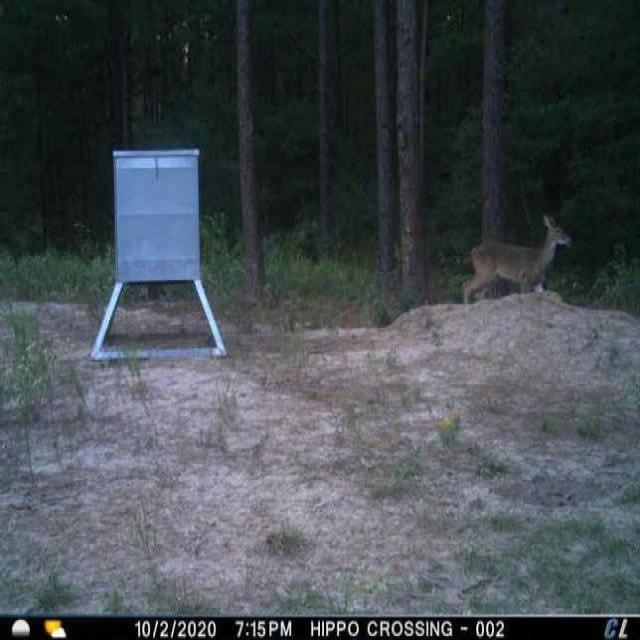deer: (462, 209, 570, 308)
